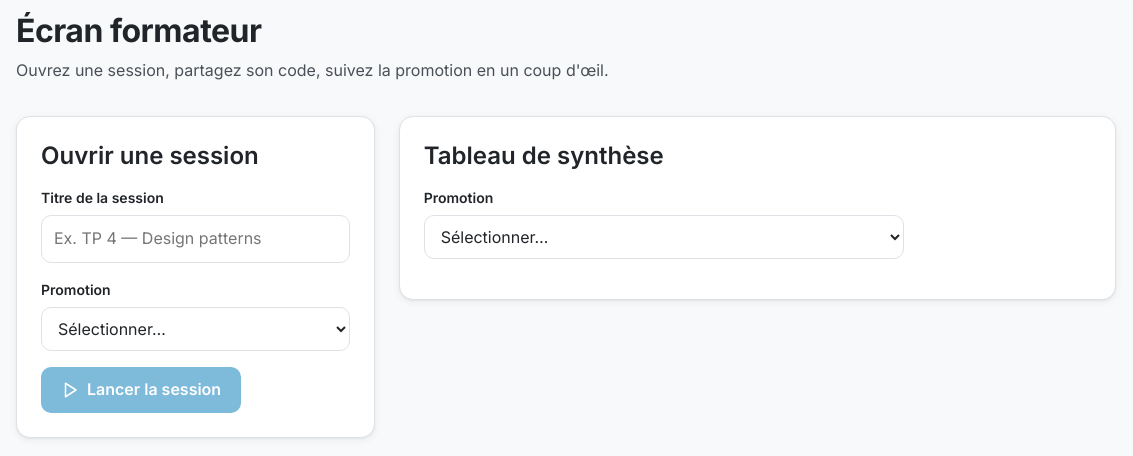
Test case: FormateurPage › affiche le tableau avec la moyenne « — » si null (décision A7)
This screenshot has width=1133, height=456.
Step 1. Select "L3 GL" in the dropdown labelled "Promotion" below "Tableau de synthèse" → coordinates (664, 237), box [424,215,904,259]
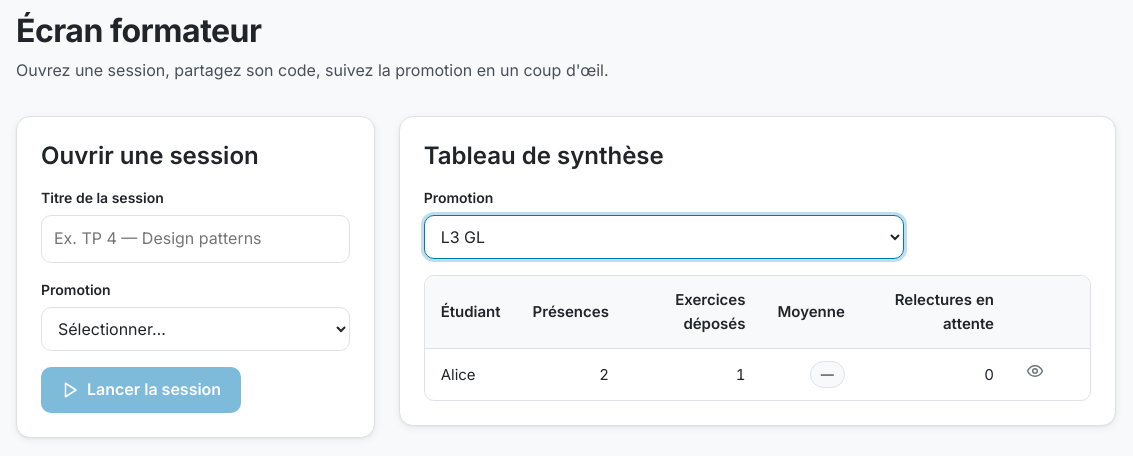
Expected: the text "Alice" is shown, [425,349,517,400]
Expected: the text "—" is shown, [810,361,845,388]
